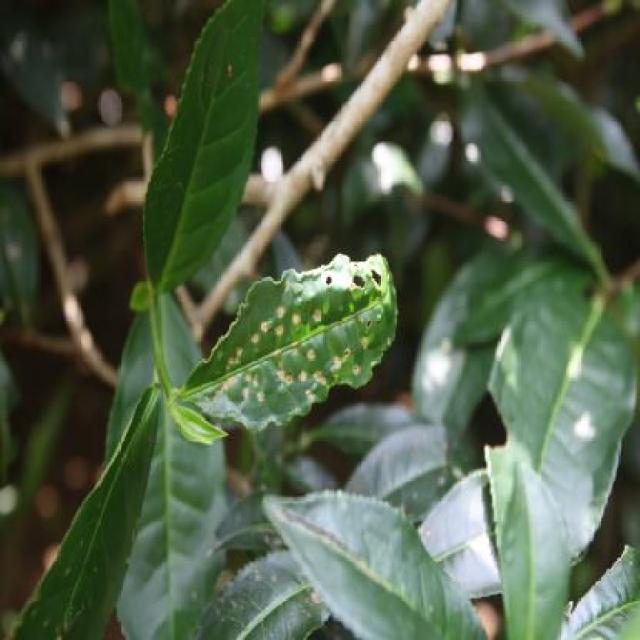Tea Mosquito bug infested leaf: (199, 254, 446, 431)
